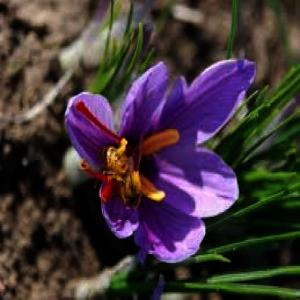Saffron: (69, 57, 252, 263)
